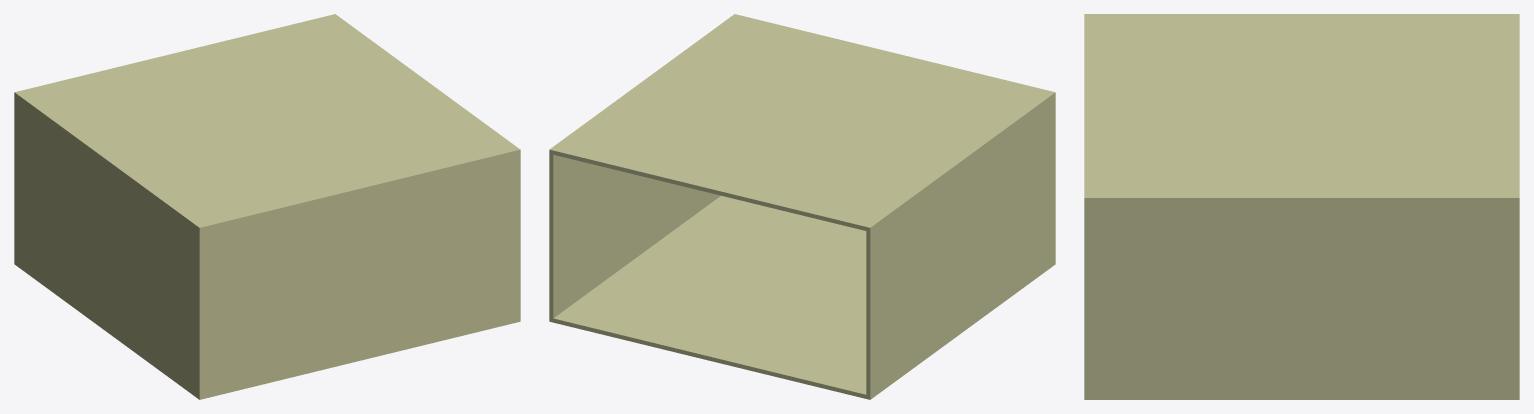
Rendered from HouseShell.obj.
3 renders of one model, left to right at view 1: azimuth 30°, elevation 25°; view 2: azimuth 150°, elevation 25°; view 3: azimuth 270°, elevation 25°, orthographic. The views are drawn at different scales.
Visible parts, largest first — view 1: Roof, Wall, Wall (2), Floor; view 2: Roof, Floor, Wall (2), Wall (1); view 3: Wall (1), Roof, Wall, Wall (2).
Part boxes in pixels (bbox=[...]): Roof: bbox=[16, 14, 520, 231]; Wall: bbox=[199, 148, 520, 399]; Wall (2): bbox=[14, 91, 202, 399]; Floor: bbox=[199, 317, 520, 399]; Roof: bbox=[550, 14, 1054, 230]; Floor: bbox=[553, 195, 866, 398]; Wall (2): bbox=[866, 92, 1055, 399]; Wall (1): bbox=[549, 14, 737, 322]; Wall (1): bbox=[1086, 195, 1519, 399]; Roof: bbox=[1084, 14, 1519, 202]; Wall: bbox=[1084, 14, 1089, 395]; Wall (2): bbox=[1084, 14, 1519, 16].
Size of the model in its own units: 8 by 4.1 by 8.
